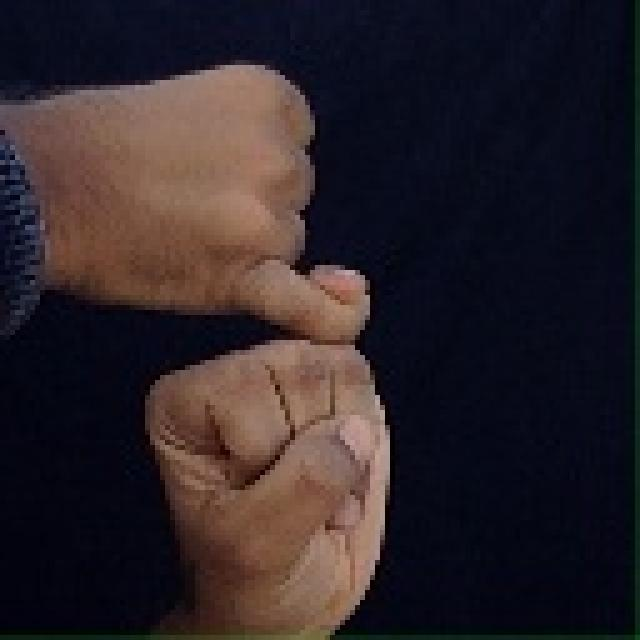S: (3, 56, 388, 640)
